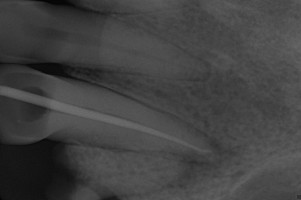Furcation Involvement: (178, 135, 228, 170)
